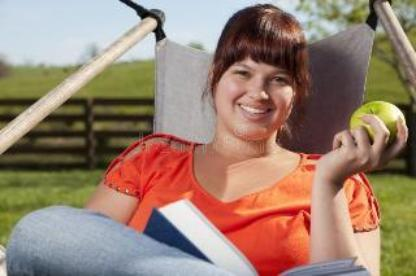person: (52, 1, 404, 276)
